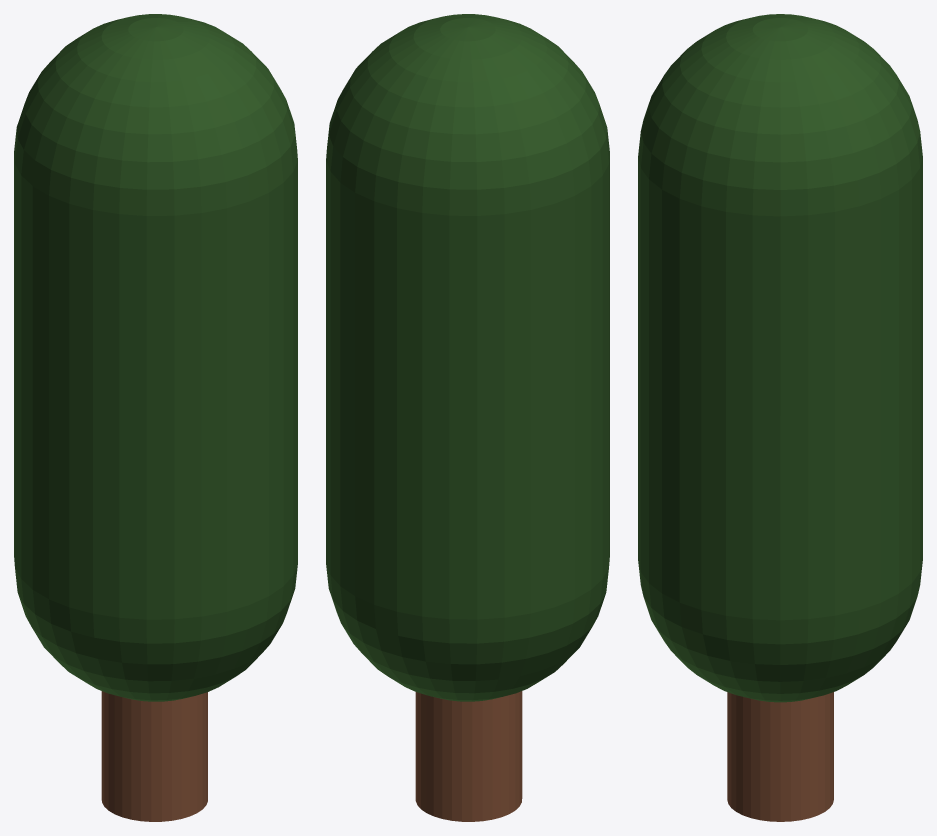
The model's file is tree2.fbx.
3 renders of one model, left to right at view 1: azimuth 30°, elevation 25°; view 2: azimuth 150°, elevation 25°; view 3: azimuth 270°, elevation 25°, orthographic.
Visible parts, largest first — view 1: Cylinder; view 2: Cylinder; view 3: Cylinder.
Part boxes in pixels (left/top/right/bottom): Cylinder: left=14, top=14, right=297, bottom=821; Cylinder: left=326, top=14, right=609, bottom=821; Cylinder: left=638, top=14, right=922, bottom=821.
Size of the model in its own units: 160 by 479 by 160.
